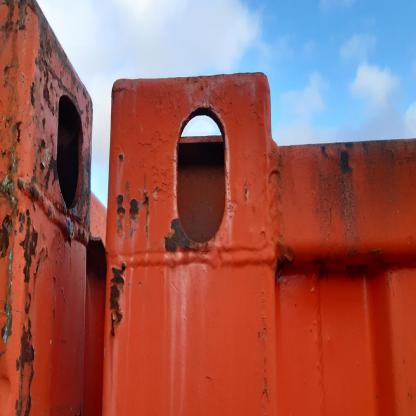CornerCasting: (111, 72, 279, 251), (0, 0, 104, 219)
